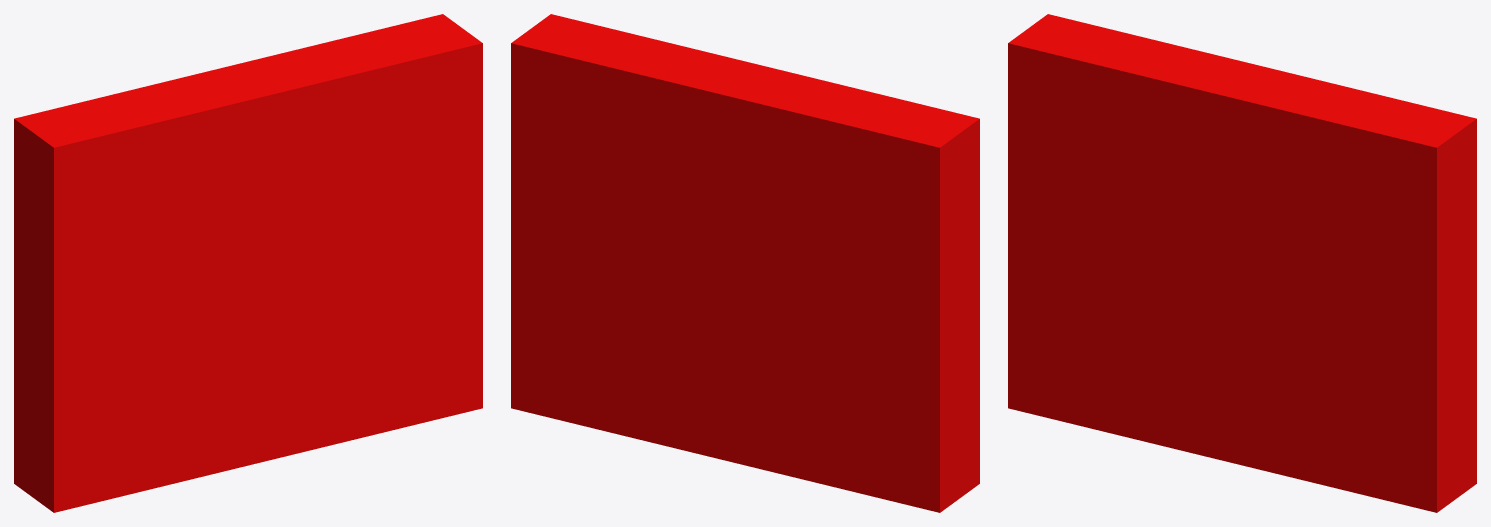
File: bofoot_col.dae
The picture shows the model from 3 angles, left to right: view 1: azimuth 30°, elevation 25°; view 2: azimuth 150°, elevation 25°; view 3: azimuth 330°, elevation 25°; orthographic projection.
Parts seen in each view (by area): view 1: node0; view 2: node0; view 3: node0.
Boxes of the visible parts, x1,y1,x2,y2 form: node0: (14,14,482,512); node0: (511,14,979,512); node0: (1008,14,1476,512).
Bounding box in the file's own units: 0.1129 × 0.0918 × 0.0182.
